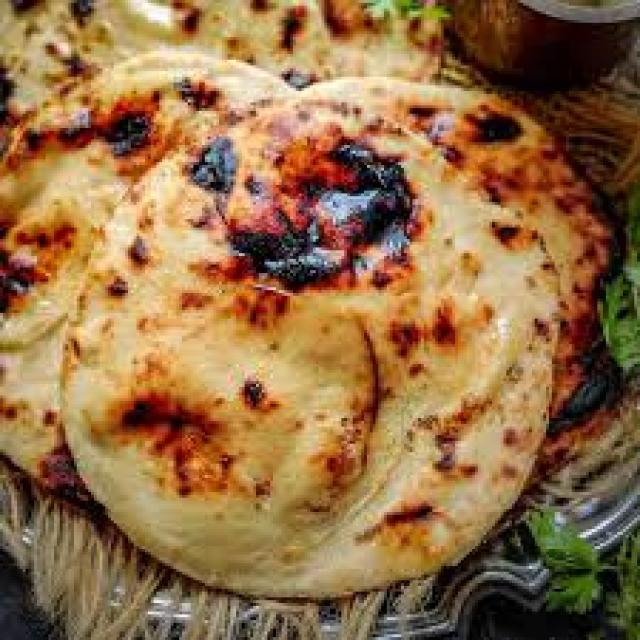ROTI: (60, 103, 560, 603), (2, 58, 292, 493), (308, 82, 618, 422)
